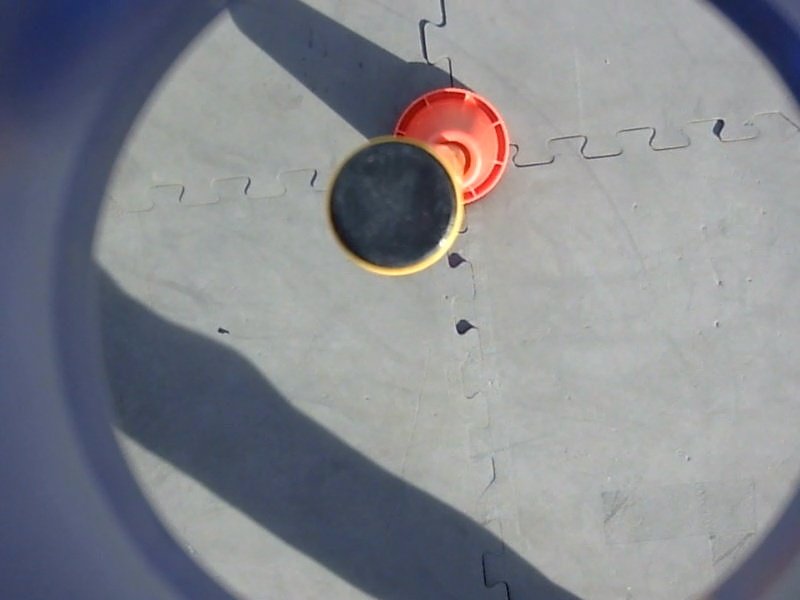tip: (312, 132, 477, 288)
